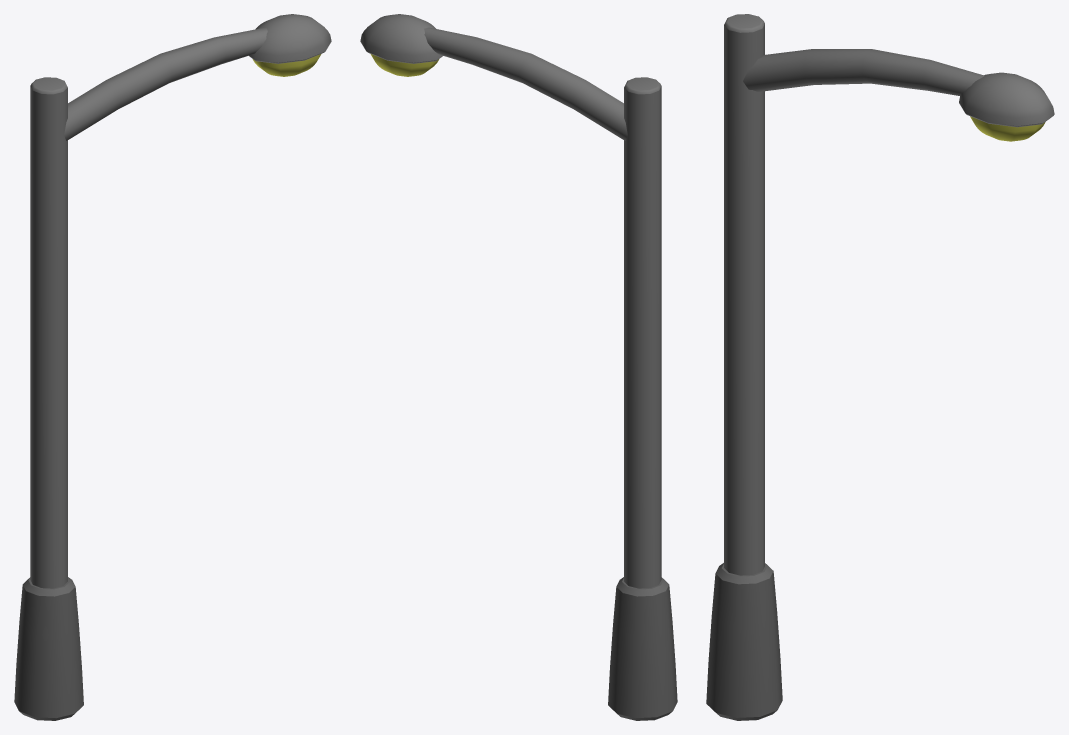
3 views of the same model, side by side, from view 1: azimuth 30°, elevation 25°; view 2: azimuth 150°, elevation 25°; view 3: azimuth 330°, elevation 25° (orthographic). The views are drawn at different scales.
Visible parts, largest first — view 1: TrafficLamp; view 2: TrafficLamp; view 3: TrafficLamp.
Part boxes in pixels (box(x1,y1,x2,y2)): TrafficLamp: box(14, 14, 331, 720); TrafficLamp: box(360, 14, 677, 720); TrafficLamp: box(706, 14, 1054, 720).
Bounding box in the file's own units: 3.4 × 6.68 × 0.6618.
